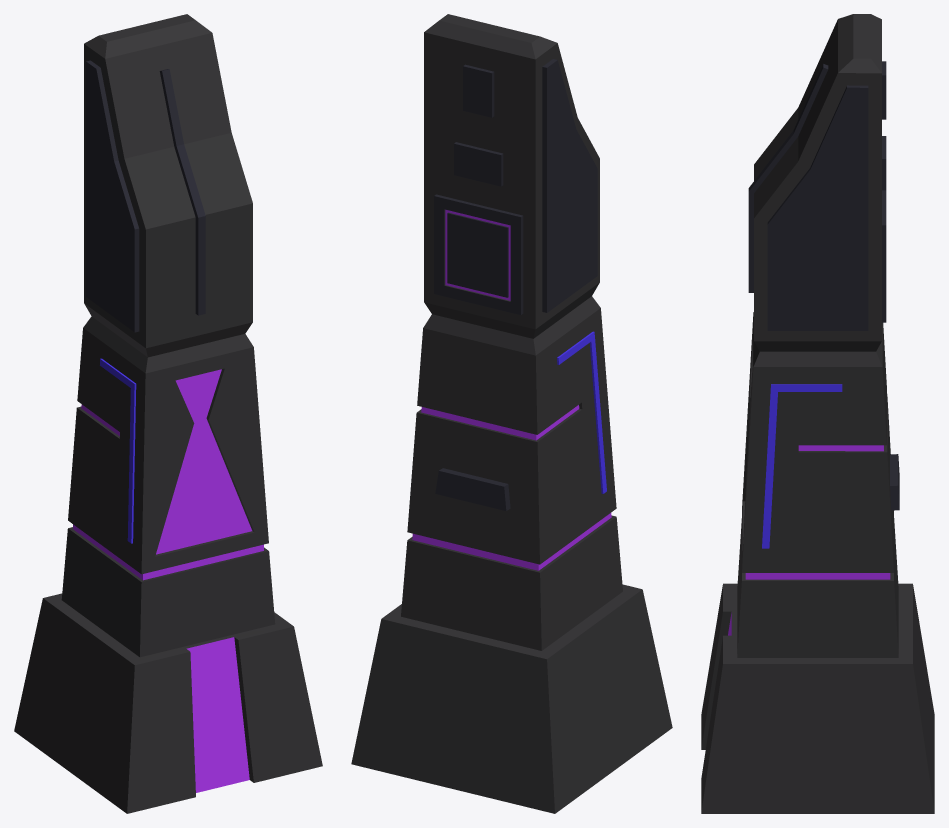
The model's file is NC_Sci-fi01.fbx.
The picture shows the model from 3 angles, left to right: view 1: azimuth 30°, elevation 25°; view 2: azimuth 150°, elevation 25°; view 3: azimuth 270°, elevation 25°; orthographic projection. The views are drawn at different scales.
Visible parts, largest first — view 1: NC_Sci_fi01; view 2: NC_Sci_fi01; view 3: NC_Sci_fi01.
Boxes of the visible parts, x1=… form: NC_Sci_fi01: x1=14, y1=14, x2=322, y2=813; NC_Sci_fi01: x1=351, y1=14, x2=672, y2=813; NC_Sci_fi01: x1=701, y1=14, x2=934, y2=813.
Bounding box in the file's own units: 186 × 642 × 186.
1 material, 1 textured.
